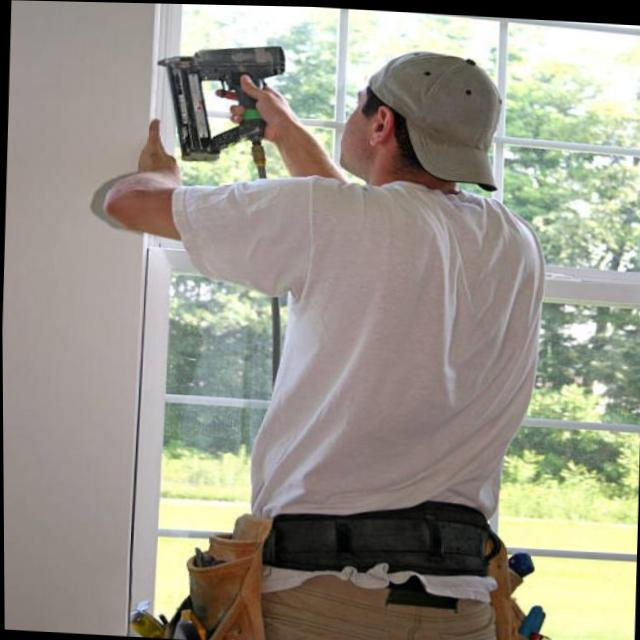no helmet: (321, 25, 513, 207)
